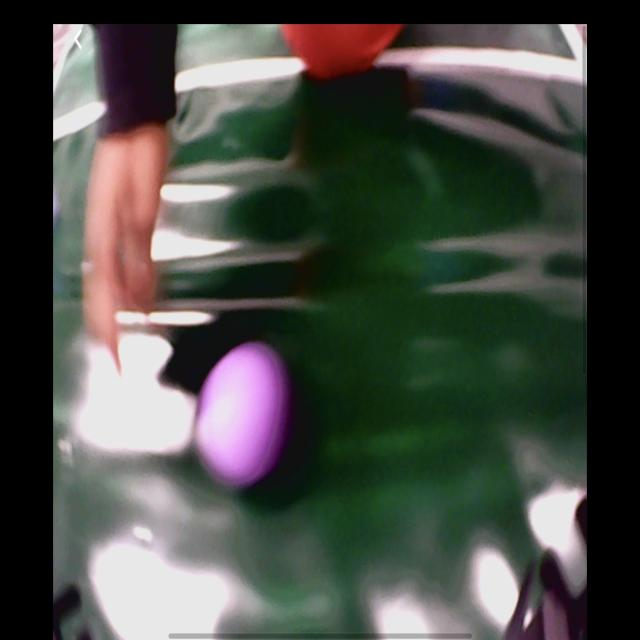ball: (202, 346, 281, 479)
